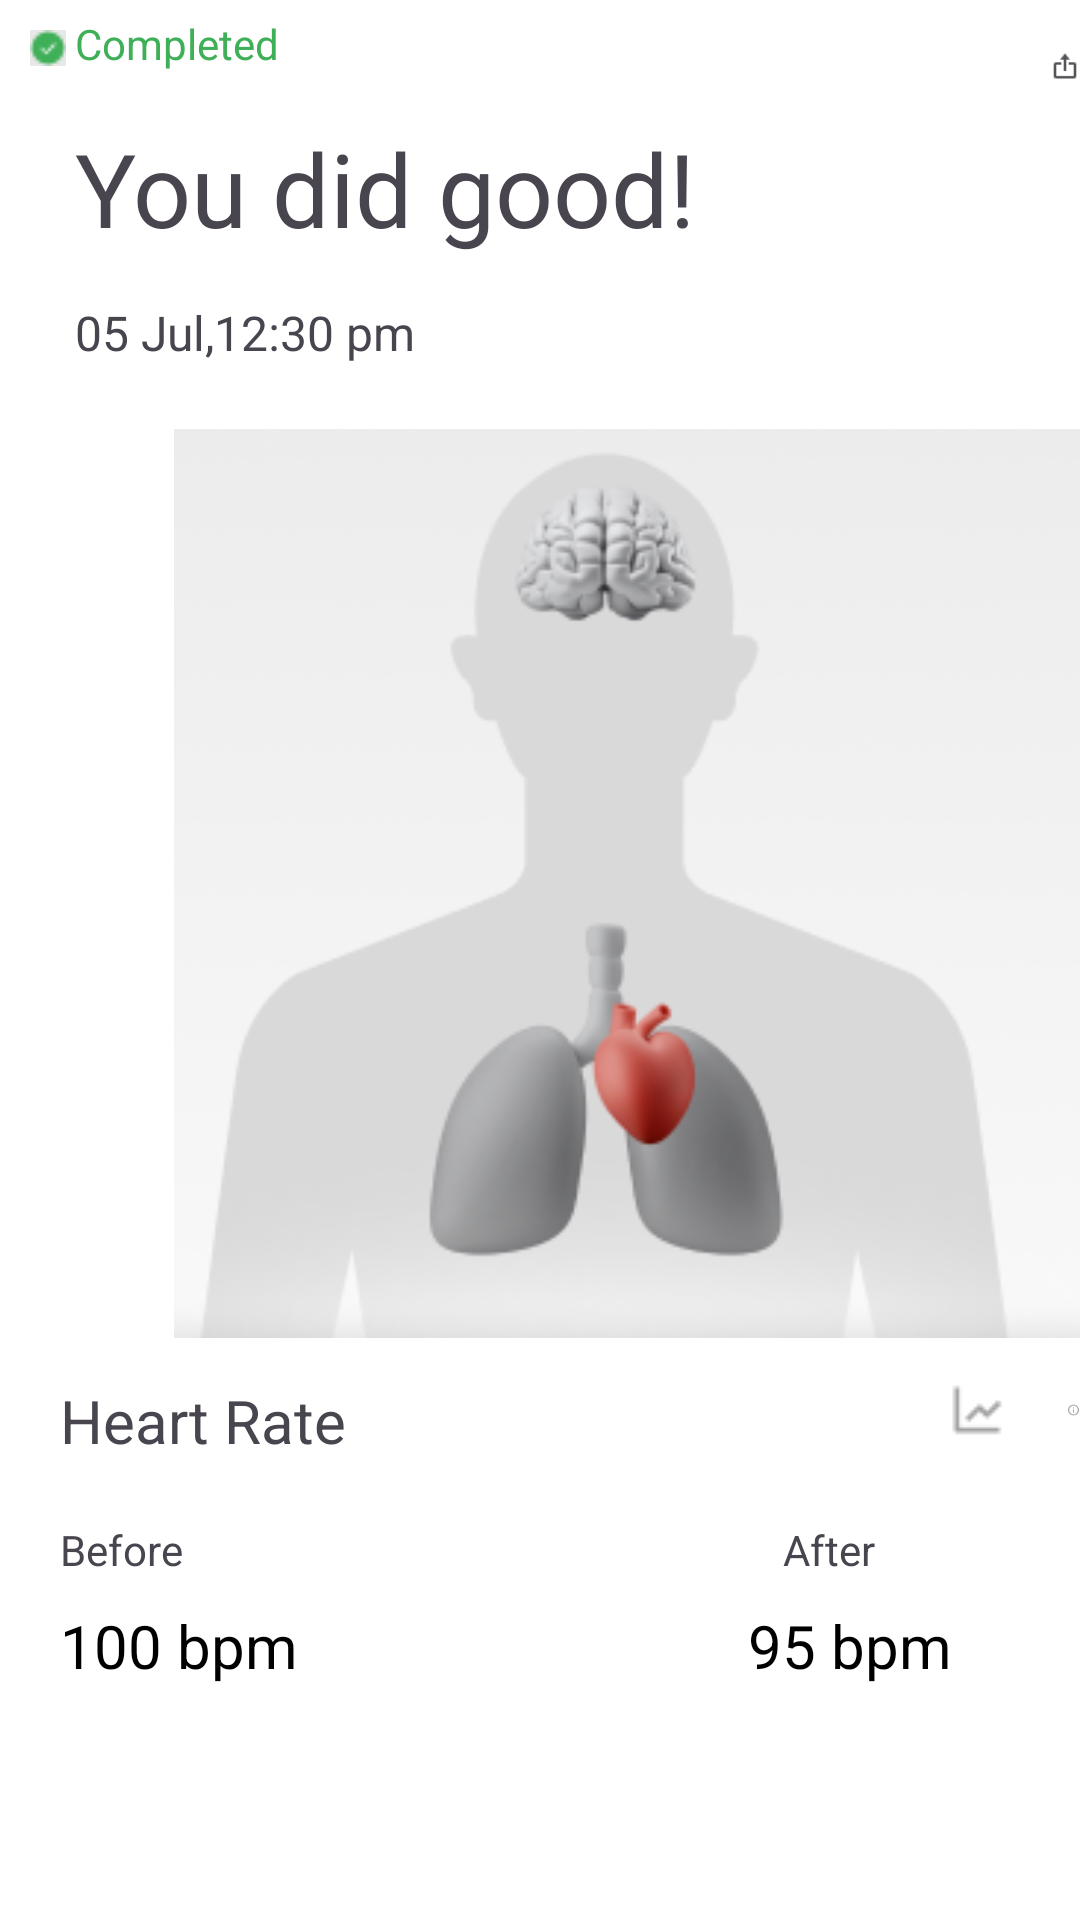

Icons on this 1080*1920 Android screen, each with its box as (x1, y1, x2, y2):
chartimg: (953, 1386, 1001, 1434)
shareimg: (1053, 53, 1077, 79)
verified: (30, 30, 66, 66)
